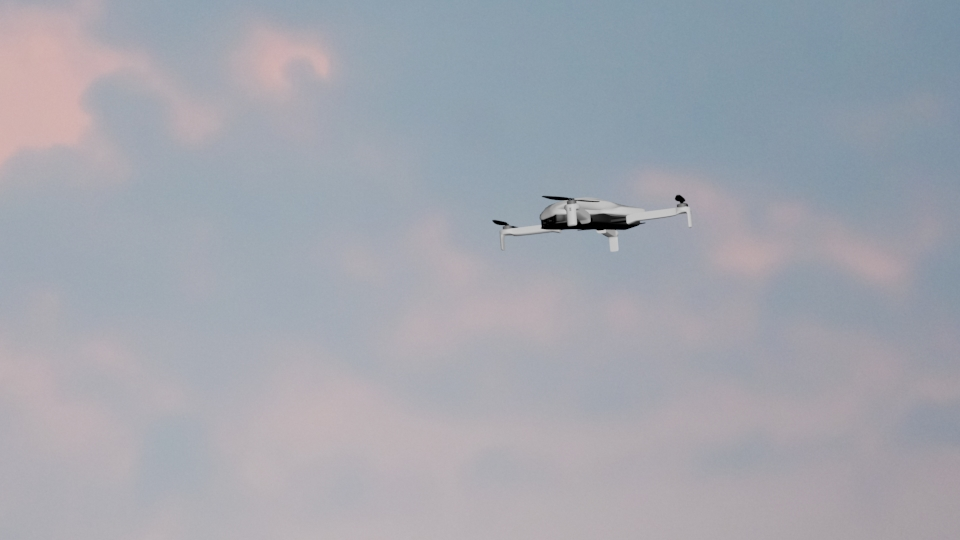drone: (492, 195, 693, 254)
